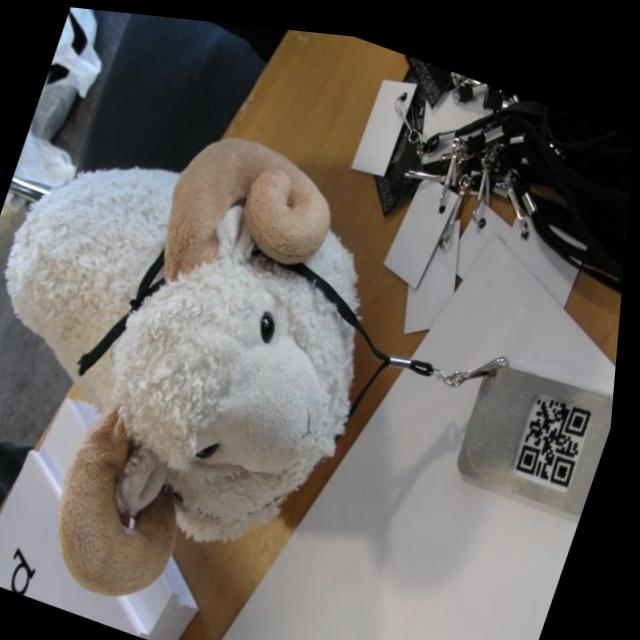qrcode: (521, 379, 601, 476)
